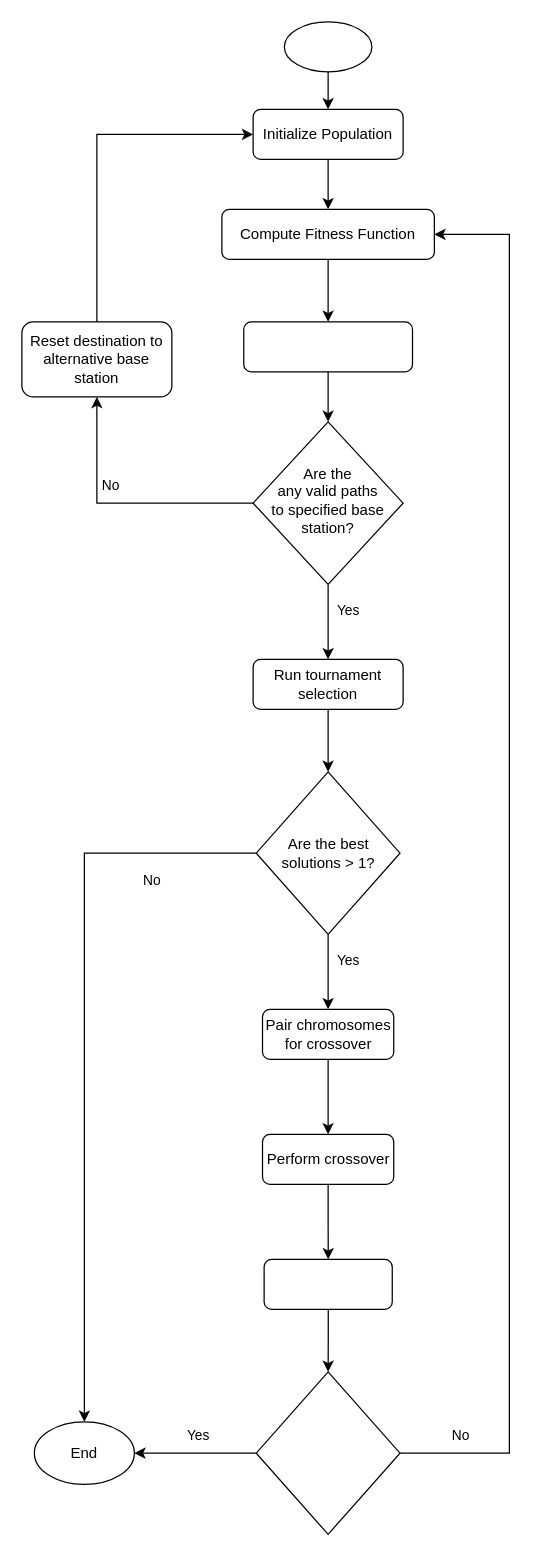
The diagram is 541 pixels wide and 1556 high, and some of its shapes have lost their labels. The shapes that lost their labels are listed below. From the top down, each one's box as (x1, y1, x2, y2) in pixels, then its label:
(283, 21, 372, 72): Start
(242, 321, 412, 372): Filter out invalid routes
(263, 1258, 392, 1309): Perform Mutation
(255, 1371, 400, 1534): Have we reached the maximum number of generations ?
